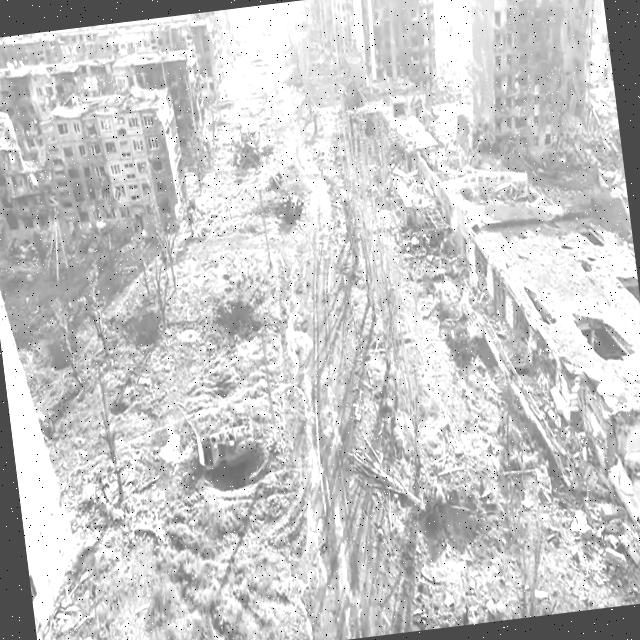AIFV: (194, 423, 261, 476)
Destroyed: (282, 193, 307, 227)
